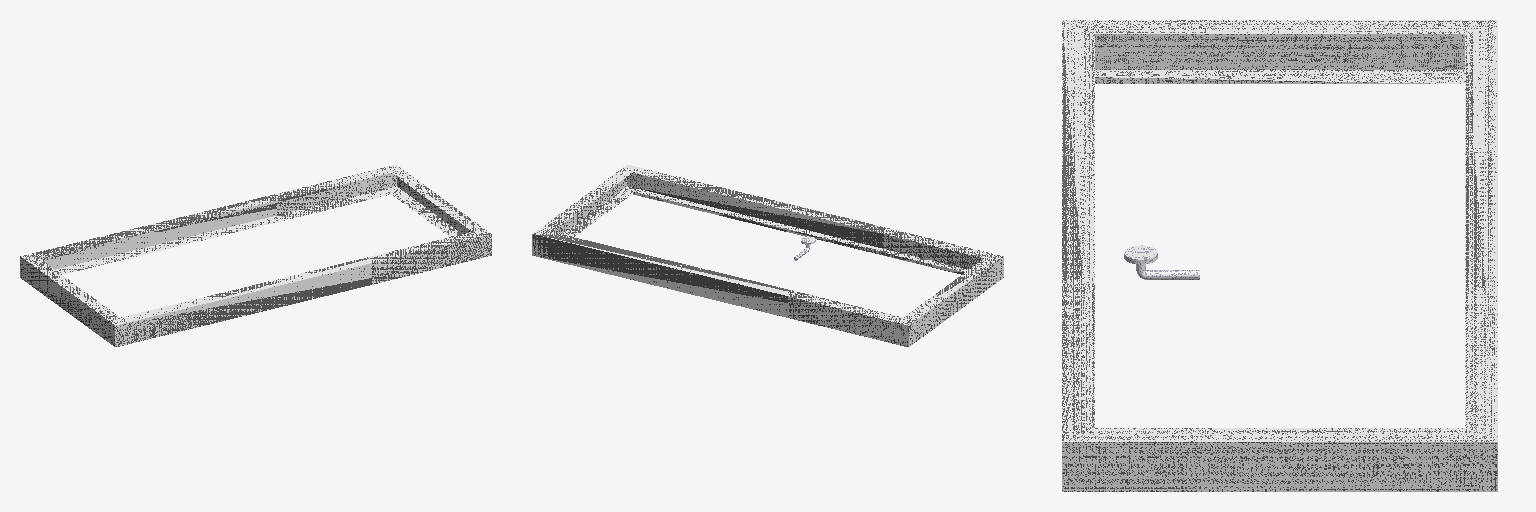
URDF robot description (right-pull-door):
<robot name="right-pull-door">
	<link name="base" />
	<link name="link_0">
		<visual name="out-frame">
			<origin xyz="0 0 0" />
			<geometry>
				<mesh filename="texture_dae/frame.dae" scale="0.9356035095005297 0.9356035095005297 0.9356035095005297" />
			</geometry>
		</visual>
		<collision>
			<origin xyz="0 0 0" />
			<geometry>
				<mesh filename="texture_dae/frame.dae" scale="0.9356035095005297 0.9356035095005297 0.9356035095005297" />
			</geometry>
		</collision>
	</link>
	<joint name="joint_0" type="fixed">
		<origin rpy="1.570796326794897 0 -1.570796326794897" xyz="0 0 0" />
		<child link="link_0" />
		<parent link="base" />
	</joint>
	<link name="link_1">
		<visual name="surf-board">
			<origin xyz="0.3271797631867954 -0.8167897893167717 0" />
			<geometry>
				<mesh filename="texture_dae/board.dae" scale="0.9356035095005297 0.9356035095005297 0.9356035095005297" />
			</geometry>
		</visual>
		<collision>
			<origin xyz="0.3271797631867954 -0.8167897893167717 0" />
			<geometry>
				<mesh filename="texture_dae/board.dae" scale="0.9356035095005297 0.9356035095005297 0.9356035095005297" />
			</geometry>
		</collision>
	</link>
	<joint name="joint_1" type="revolute">
		<origin xyz="-0.3271797631867954 0.8167897893167717 0" />
		<axis xyz="0 -1 0" />
		<child link="link_1" />
		<parent link="link_0" />
		<limit lower="0" upper="1.5079644737231006" />
	</joint>
	<link name="link_2">
		<visual name="handle">
			<origin xyz="0 0 0" />
			<geometry>
				<mesh filename="texture_dae/9960003.dae" scale="0.9319476660671626 0.9319476660671626 0.9319476660671626" />
			</geometry>
		</visual>
		<collision>
			<origin xyz="0 0 0" />
			<geometry>
				<mesh filename="texture_dae/9960003.dae" scale="0.9319476660671626 0.9319476660671626 0.9319476660671626" />
			</geometry>
		</collision>
	</link>
	<joint name="joint_2" type="revolute">
		<origin xyz="0.571345649829945 -0.8377169236194582 0.048463961677112935" />
		<child link="link_2" />
		<parent link="link_1" />
		<axis xyz="0 0 1" />
		<limit lower="0" upper="0" />
	</joint>
</robot>

--- Facts derived from the render (not from the file) ---
3 views of the same robot in one strip: view 1: azimuth 30°, elevation 25°; view 2: azimuth 150°, elevation 25°; view 3: azimuth 270°, elevation 25° (orthographic).
Robot: right-pull-door — 4 links, 3 joints (2 revolute, 1 fixed); root link base; default pose: all joints at 0.
Links seen in each view (by area): view 1: link_0; view 2: link_0; view 3: link_0, link_2.
Link boxes in pixels (left/top/right/bottom): link_0: left=20, top=165, right=491, bottom=346; link_0: left=532, top=165, right=1003, bottom=346; link_0: left=1062, top=20, right=1497, bottom=491; link_2: left=1124, top=245, right=1199, bottom=279.
Bounding box of the posed robot: 1.75 × 0.7653 × 0.1155 m (x, y, z).
2 mesh visuals loaded from 3 distinct referenced files (2 Collada DAE); not drawn: 1 (reference not matched to a file when rendering).
